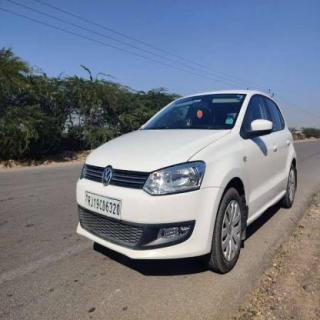Normal_vehicle: (77, 90, 297, 273)
